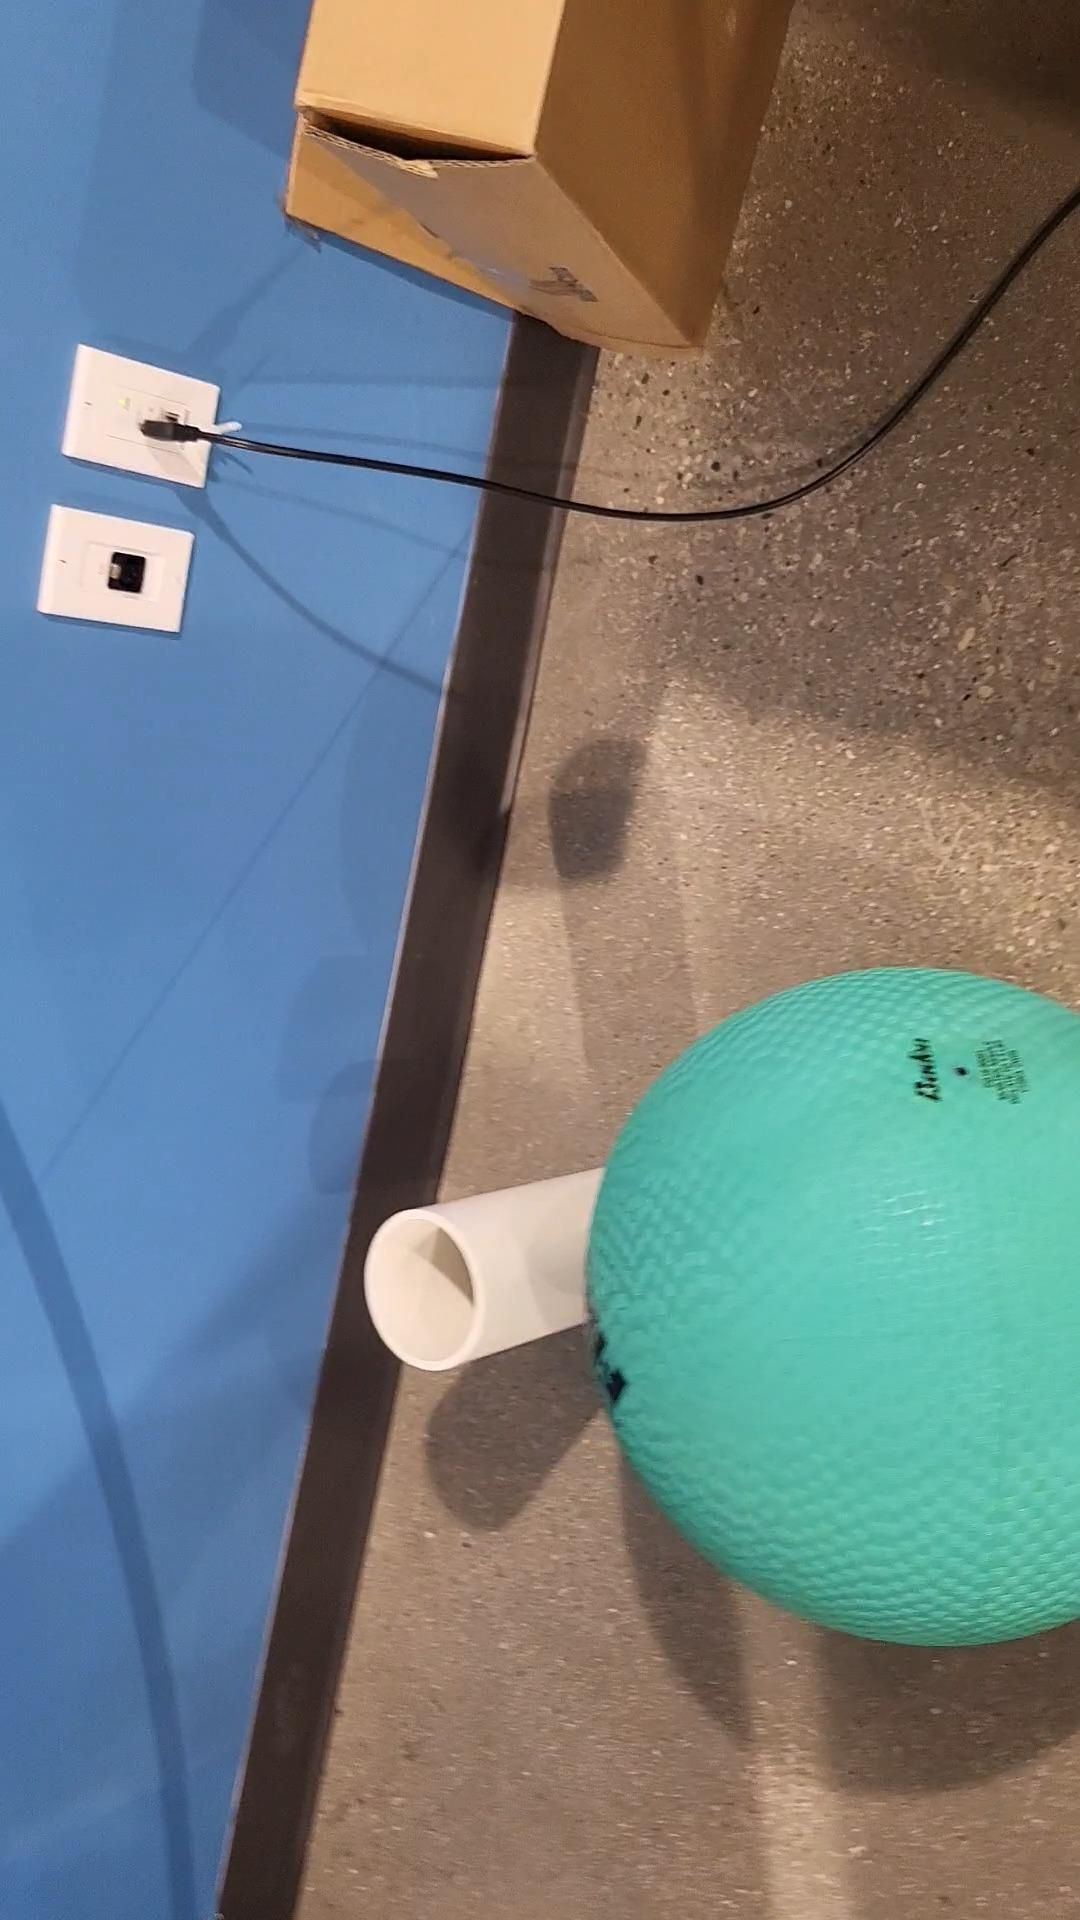algae: (592, 968, 1080, 1647)
coral: (365, 1160, 630, 1370)
